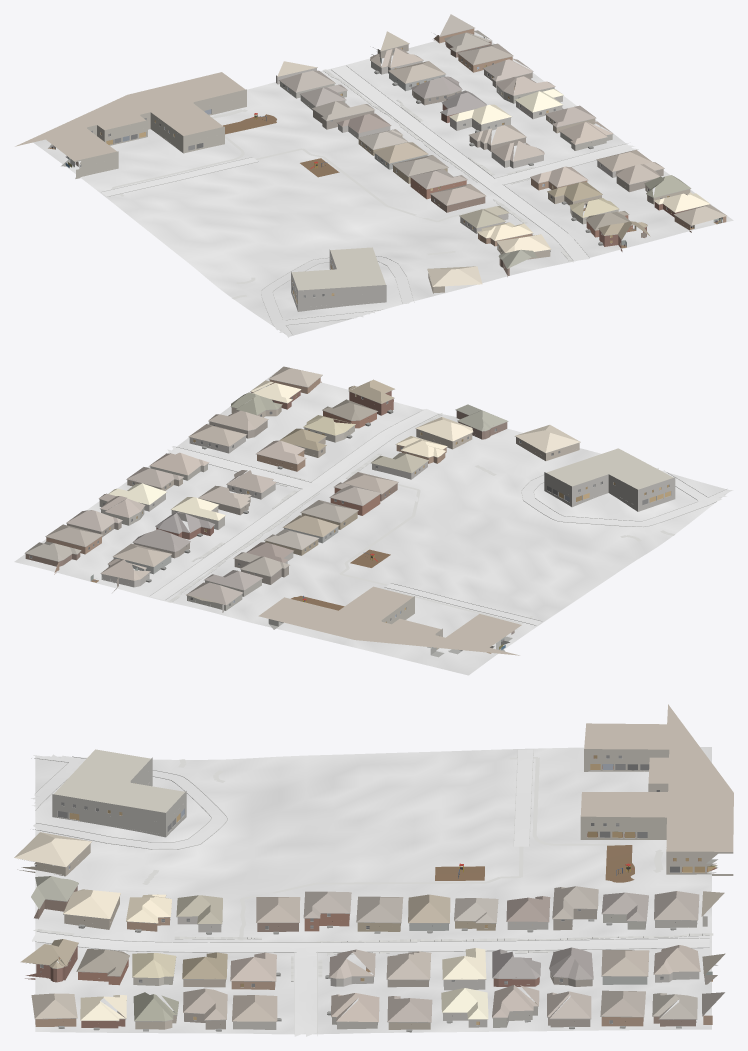
The picture shows the model from 3 angles, top to bottom: view 1: azimuth 30°, elevation 25°; view 2: azimuth 150°, elevation 25°; view 3: azimuth 270°, elevation 25°; orthographic projection. The views are drawn at different scales.
Visible parts, largest first — view 1: ground, roof, roof_flat, concrete, wall_com, wall, detail, walk, wall_stone, wall_stucco, curb; view 2: ground, roof, roof_flat, concrete, wall, detail, wall_com, wall_stucco, walk, curb, wall_stone, room; view 3: ground, roof, roof_flat, concrete, wall, wall_com, detail, wall_stucco, walk, curb, wall_stone, glass (+1 smaller).
Part boxes in pixels (x1,y1,x2,y2): ground: (33, 32, 733, 336); roof: (277, 14, 727, 286); roof_flat: (15, 72, 385, 290); concrete: (102, 66, 638, 337); wall_com: (75, 89, 386, 311); wall: (313, 28, 726, 276); detail: (79, 28, 722, 306); walk: (112, 69, 573, 299); wall_stone: (276, 61, 616, 233); wall_stucco: (280, 72, 690, 293); curb: (101, 65, 637, 334); ground: (14, 371, 729, 675); roof: (25, 366, 580, 605); roof_flat: (258, 448, 673, 655); concrete: (150, 409, 733, 625); wall: (25, 377, 507, 592); detail: (25, 375, 669, 652); wall_com: (381, 472, 675, 650); wall_stucco: (99, 406, 579, 610); walk: (168, 413, 674, 623); curb: (149, 410, 727, 625); wall_stone: (101, 436, 427, 612); room: (90, 385, 671, 657); ground: (35, 747, 711, 1034); roof: (14, 832, 725, 1022); roof_flat: (54, 704, 733, 851); concrete: (31, 749, 709, 1036); wall: (25, 886, 717, 1029); wall_com: (52, 749, 733, 875); detail: (22, 755, 717, 1032); wall_stucco: (17, 844, 697, 1029); walk: (33, 757, 713, 981); curb: (31, 749, 709, 1035); wall_stone: (177, 916, 707, 1029); glass: (35, 755, 679, 1023).
Size of the model in its own units: 272 by 16.38 by 266.
